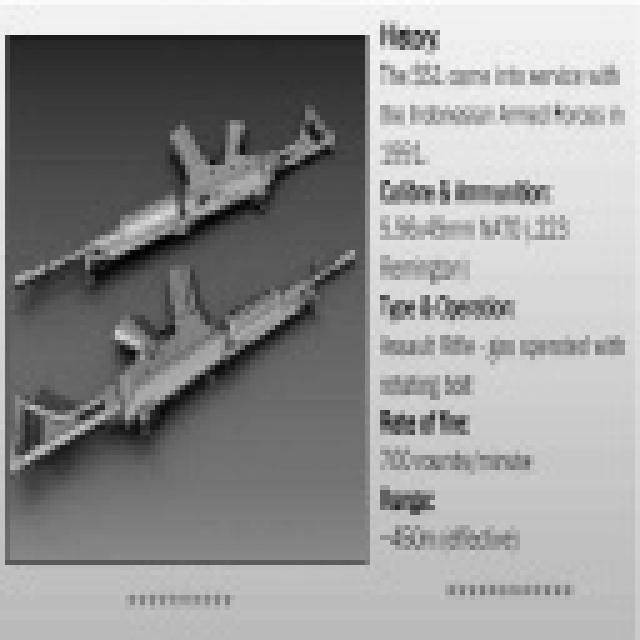Rifle: (4, 205, 371, 495), (0, 90, 350, 300)
